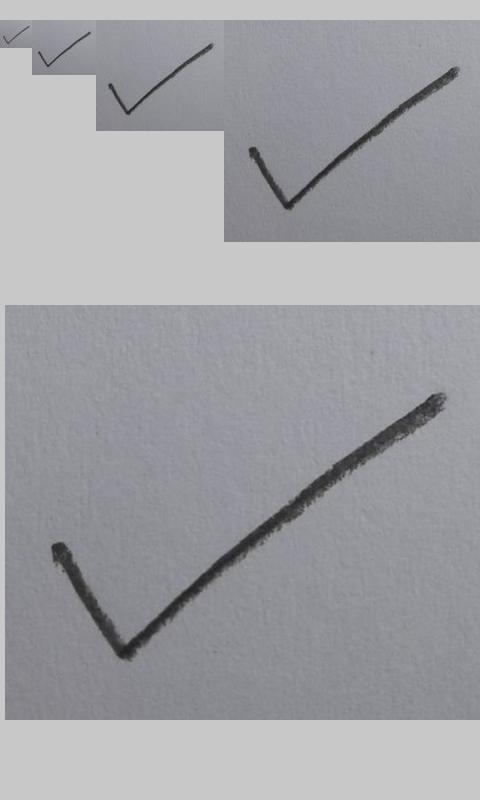check_box: (53, 392, 444, 662), (249, 66, 459, 210), (108, 43, 213, 115), (37, 32, 90, 67), (3, 25, 30, 44)
